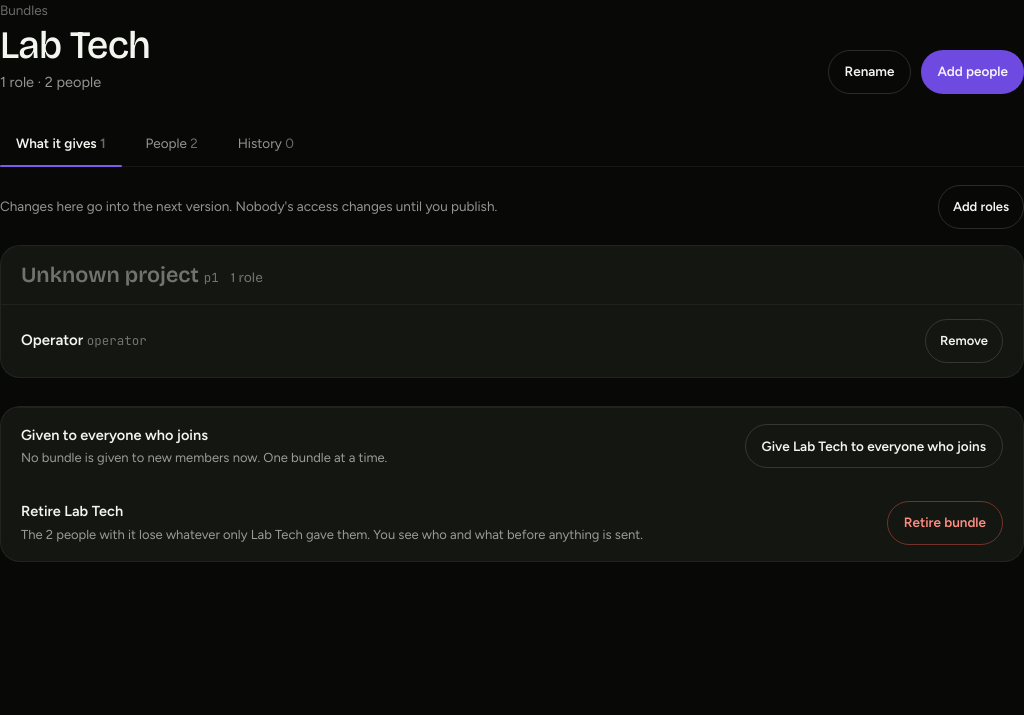
Test: dropping a role from a bundle's working copy › keeps the button when the drop fails, so there is a retry
This screenshot has width=1024, height=715.
Click the button "Remove" at (964, 341), box [925,319,1003,363]
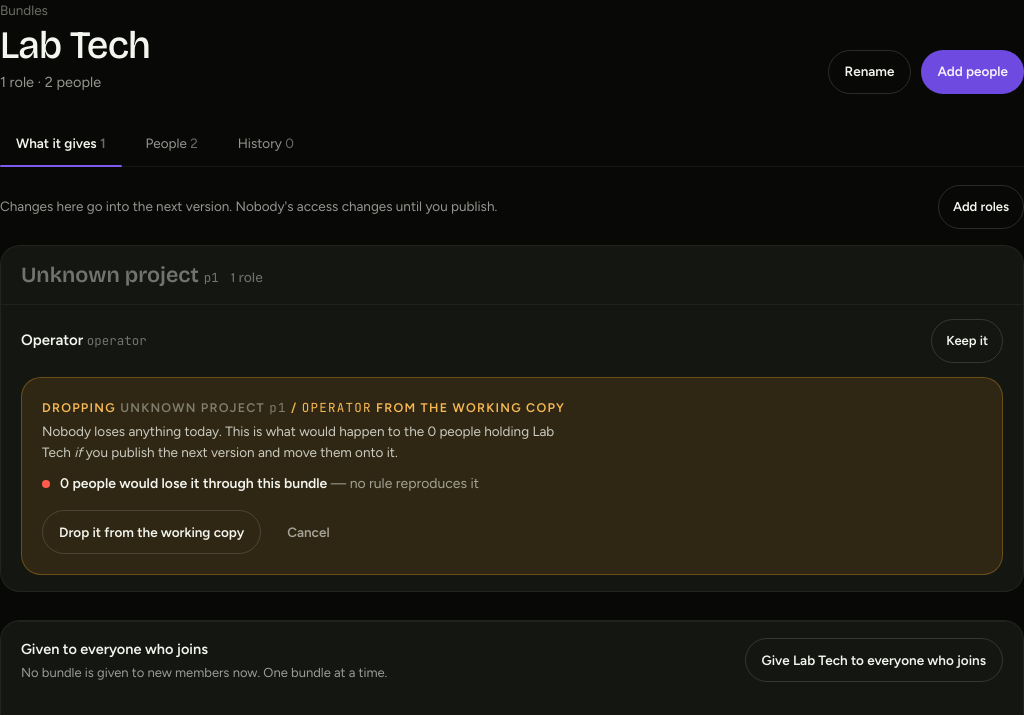
Click the button "Drop it from the working copy" at (152, 532), box [42,510,261,554]
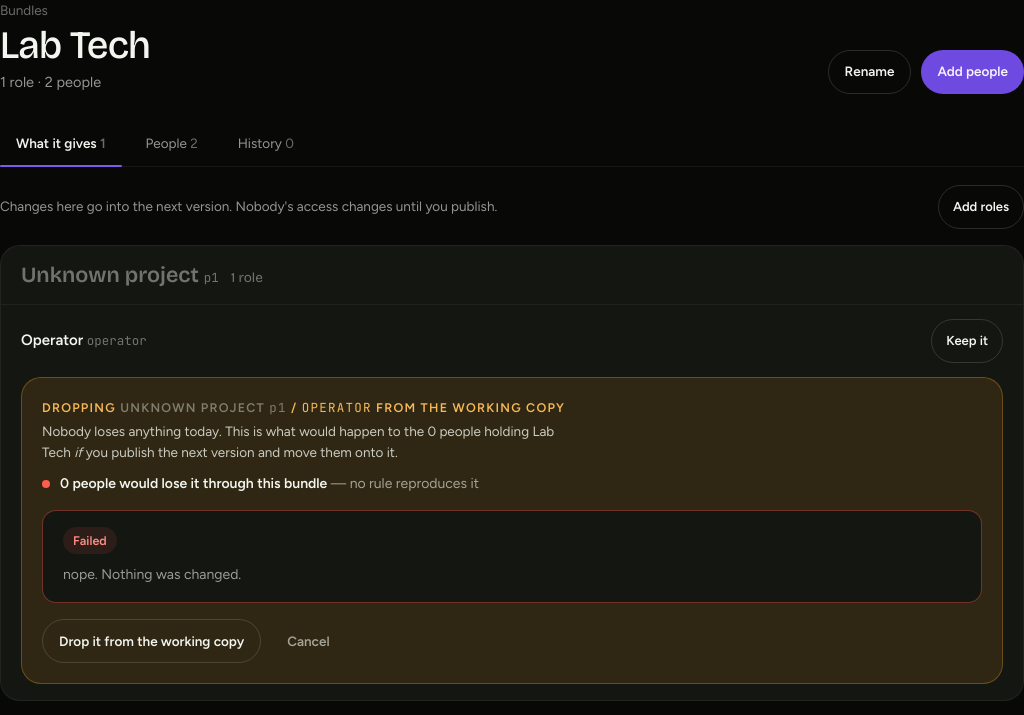
Now the button "Drop it from the working copy" is shown, box [42,619,261,663]
Now the text "nope. Nothing was changed." is shown, box [63,566,241,583]
